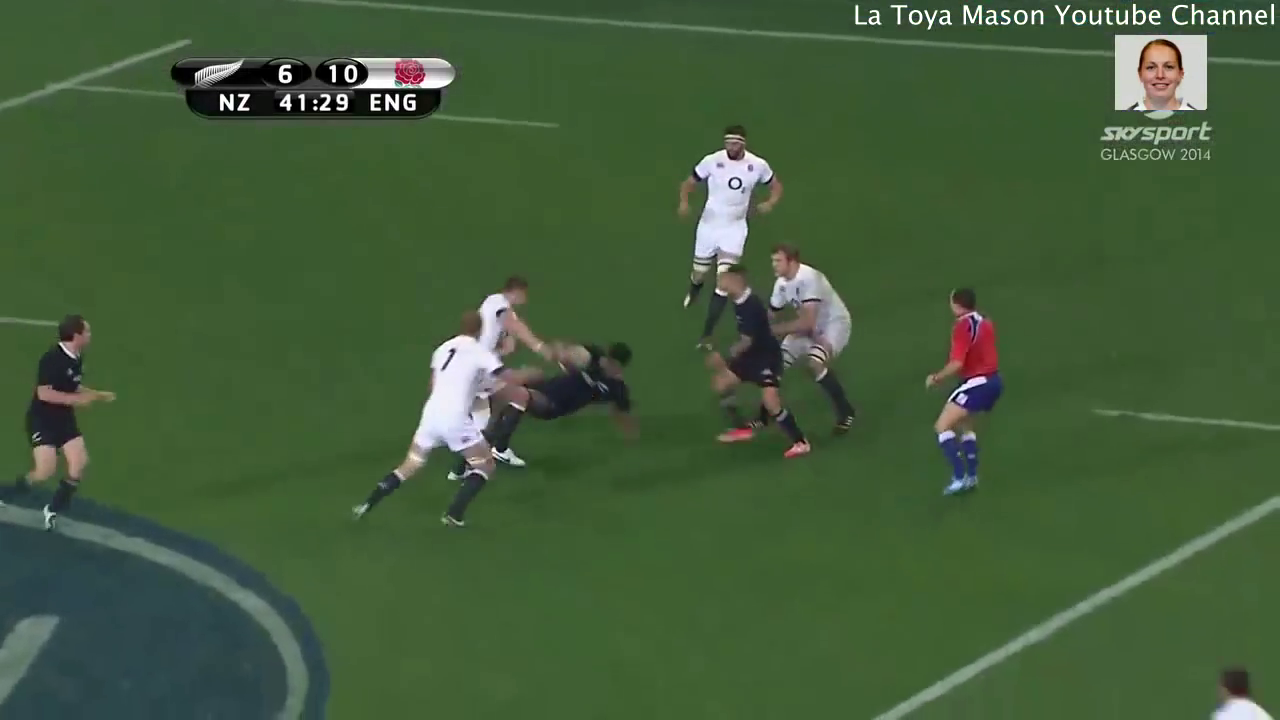player: (340, 297, 503, 556), (465, 330, 649, 484), (1, 308, 129, 527), (672, 120, 786, 355), (693, 262, 813, 473), (751, 236, 865, 444), (909, 268, 1004, 513), (452, 268, 549, 481), (1195, 656, 1280, 720)
